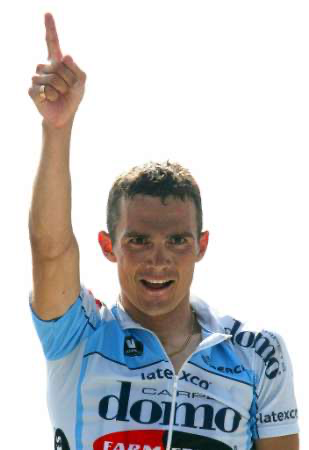Face: (112, 206, 197, 317)
